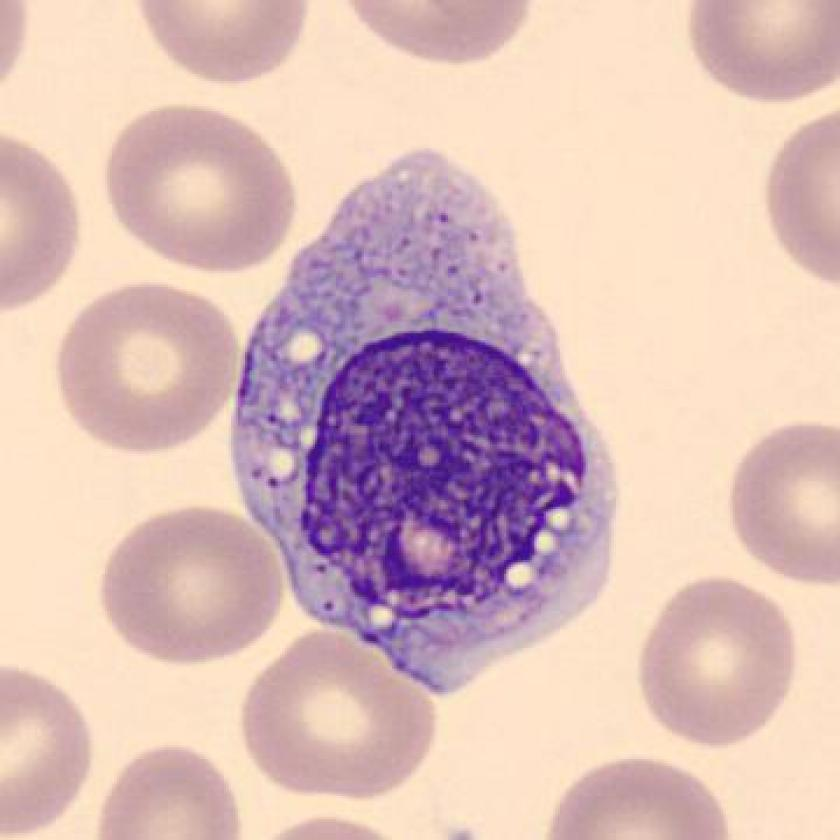monocyte: (223, 135, 633, 716)
